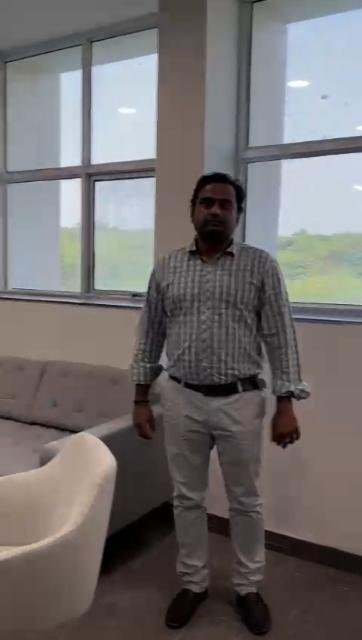moving-obj: (140, 168, 292, 634)
object: (0, 334, 132, 560), (4, 455, 116, 635)
wall: (305, 329, 362, 542), (168, 11, 232, 167), (2, 304, 134, 362)
